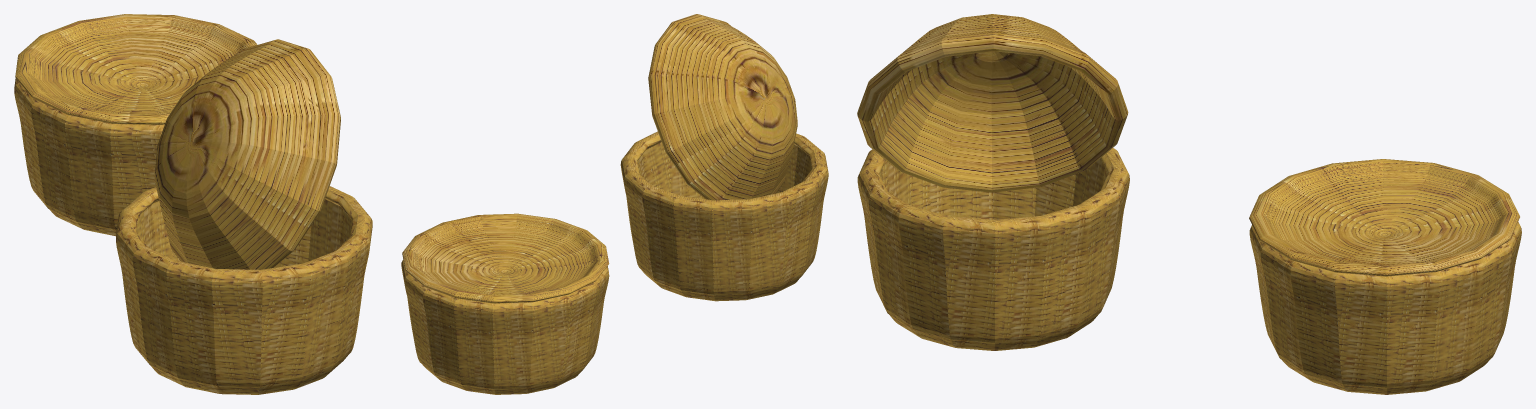
3 views of the same model, side by side, from view 1: azimuth 30°, elevation 25°; view 2: azimuth 150°, elevation 25°; view 3: azimuth 270°, elevation 25° (orthographic). The views are drawn at different scales.
Parts seen in each view (by area): view 1: qingmo_obj_509 [10484369]; view 2: qingmo_obj_509 [10484369]; view 3: qingmo_obj_509 [10484369].
Boxes of the visible parts, box(x1,y1,x2,y2) form: qingmo_obj_509 [10484369]: box(14, 14, 372, 394); qingmo_obj_509 [10484369]: box(401, 14, 828, 394); qingmo_obj_509 [10484369]: box(857, 14, 1521, 394).
Bounding box in the file's own units: 11.3 × 20 × 10.29.
Materials: 1 (1 with a texture image).
